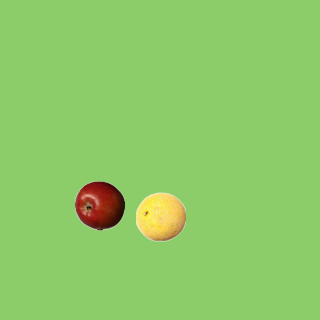Apple Braeburn: (74, 180, 124, 230)
Cantaloupe 1: (135, 191, 185, 241)
